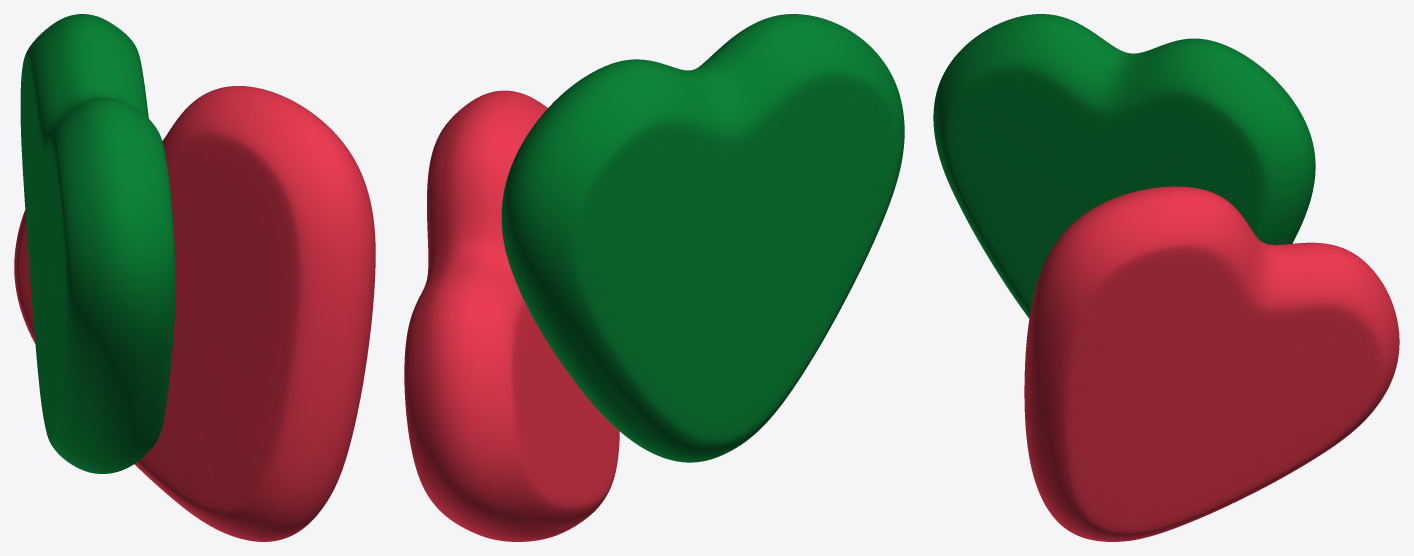
Rendered from heart.glb.
3 views of the same model, side by side, from view 1: azimuth 30°, elevation 25°; view 2: azimuth 150°, elevation 25°; view 3: azimuth 270°, elevation 25° (orthographic). The views are drawn at different scales.
Parts seen in each view (by area): view 1: Mesh2; view 2: Mesh2; view 3: Mesh2.
Boxes of the visible parts, x1,y1,x2,y2 form: Mesh2: (14,14,375,541); Mesh2: (404,14,904,541); Mesh2: (933,14,1399,541).
Bounding box in the file's own units: 2.94 × 3.94 × 3.75.
